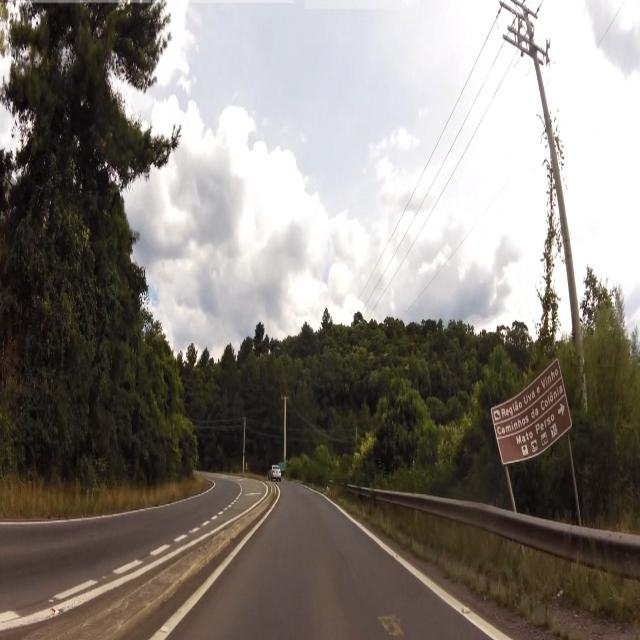TUR-4: (487, 364, 581, 455)
